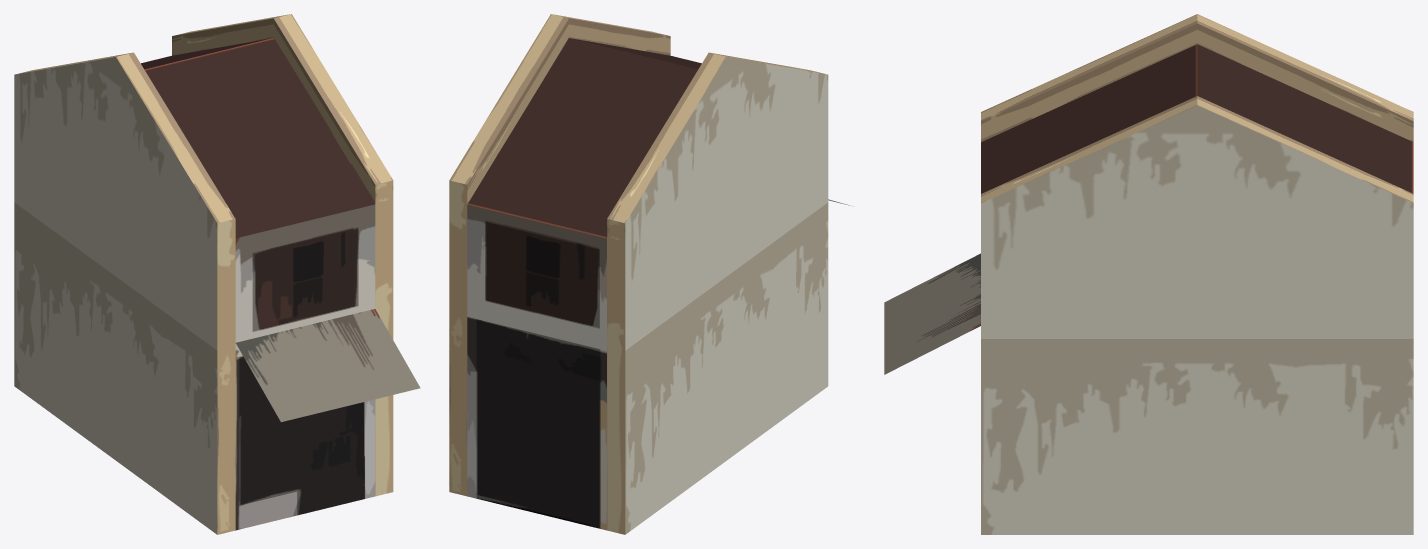
The model's file is SM_Building_Thin_01.fbx.
The picture shows the model from 3 angles, left to right: view 1: azimuth 30°, elevation 25°; view 2: azimuth 150°, elevation 25°; view 3: azimuth 270°, elevation 25°; orthographic projection. The views are drawn at different scales.
Parts seen in each view (by area): view 1: SM_Building_Thin_01_LOD0; view 2: SM_Building_Thin_01_LOD0; view 3: SM_Building_Thin_01_LOD0.
Boxes of the visible parts, <box> form: SM_Building_Thin_01_LOD0: <box>14,14,420,534</box>; SM_Building_Thin_01_LOD0: <box>449,14,852,534</box>; SM_Building_Thin_01_LOD0: <box>884,14,1413,534</box>.
Size of what is drawn, in the model's own units: 4.2 by 9.21 by 10.28.
